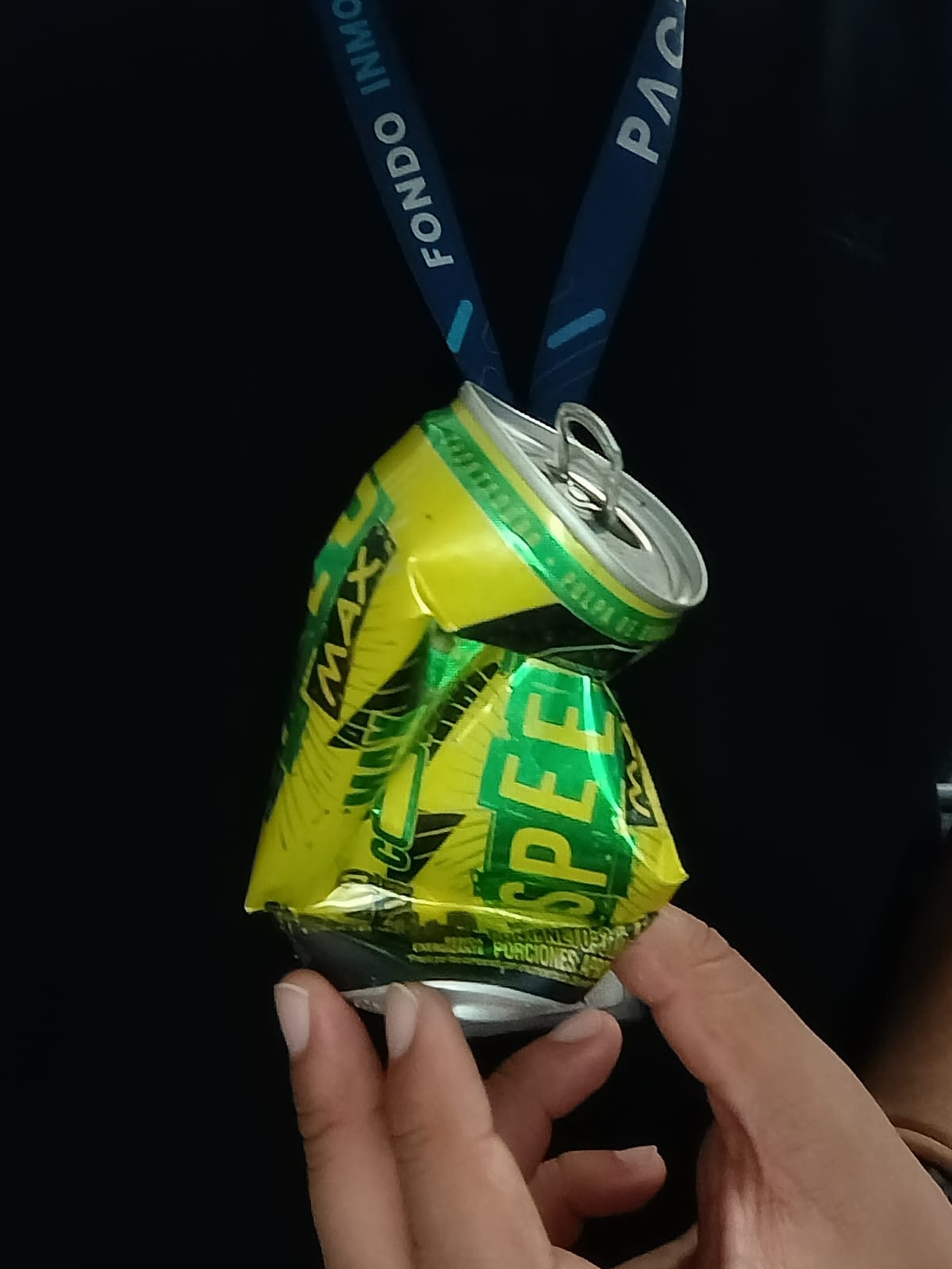Metal: (246, 333, 708, 1039)
